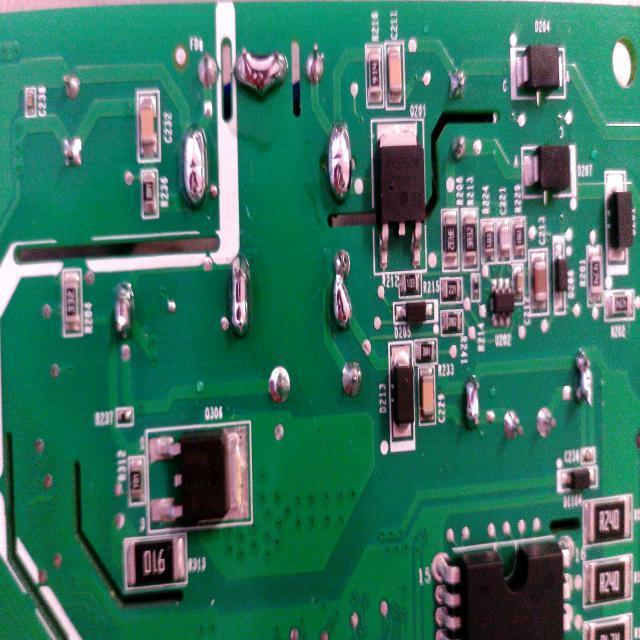Soldering shorted: (232, 41, 292, 102), (324, 114, 354, 208), (182, 120, 209, 216), (328, 246, 353, 333), (228, 253, 252, 341), (572, 345, 595, 410), (112, 278, 134, 342), (463, 371, 481, 429)
